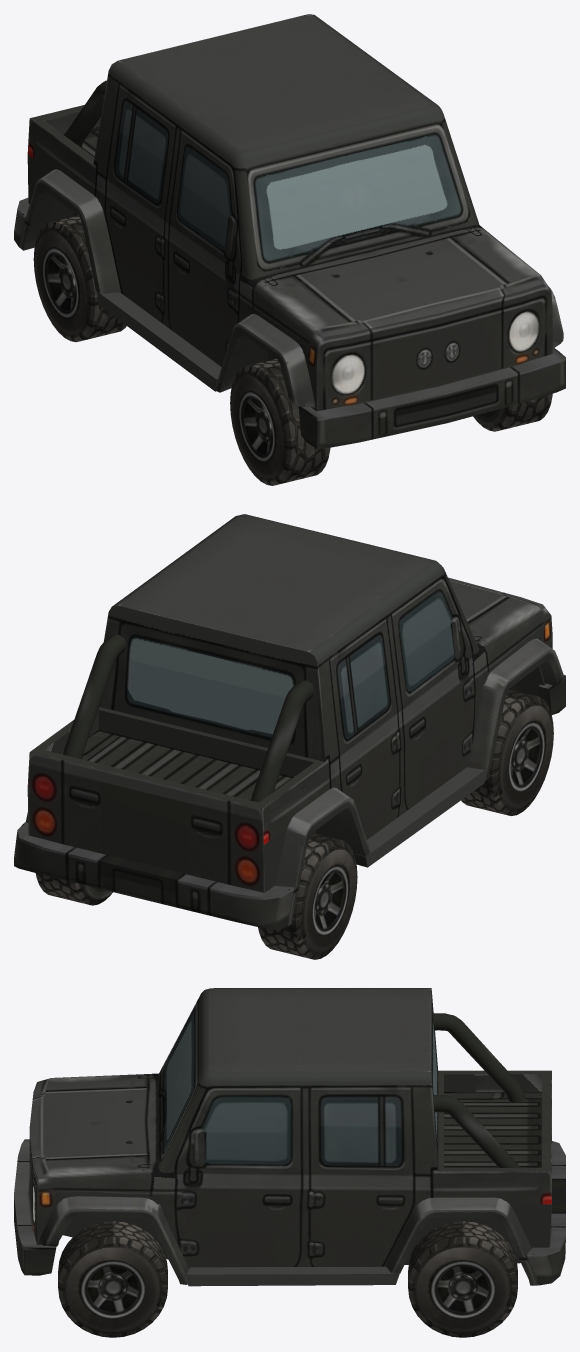
The model's file is Bollinger.glb.
3 renders of one model, top to bottom at view 1: azimuth 30°, elevation 25°; view 2: azimuth 150°, elevation 25°; view 3: azimuth 270°, elevation 25°, orthographic. The views are drawn at different scales.
Visible parts, largest first — view 1: Bollinger_car_body, Front_right, Back_right, Front_left; view 2: Bollinger_car_body, Back_right, Front_right, Back_left; view 3: Bollinger_car_body, Back_left, Front_left.
Boxes of the visible parts, x1,y1,x2,y2 form: Bollinger_car_body: [14, 14, 565, 448]; Front_right: [230, 358, 330, 485]; Back_right: [33, 215, 126, 342]; Front_left: [473, 394, 552, 431]; Bollinger_car_body: [14, 514, 565, 930]; Back_right: [258, 833, 357, 959]; Front_right: [461, 689, 553, 815]; Back_left: [35, 873, 112, 905]; Bollinger_car_body: [14, 988, 565, 1286]; Back_left: [408, 1221, 517, 1337]; Front_left: [58, 1221, 167, 1337].
Size of the model in its own units: 2.46 by 2.45 by 4.88.
Materials: 2 (2 with a texture image).
